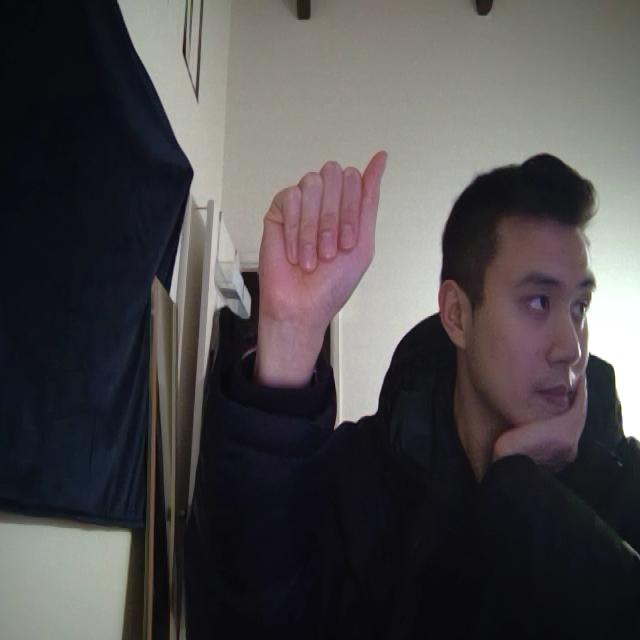A: (242, 131, 402, 356)
